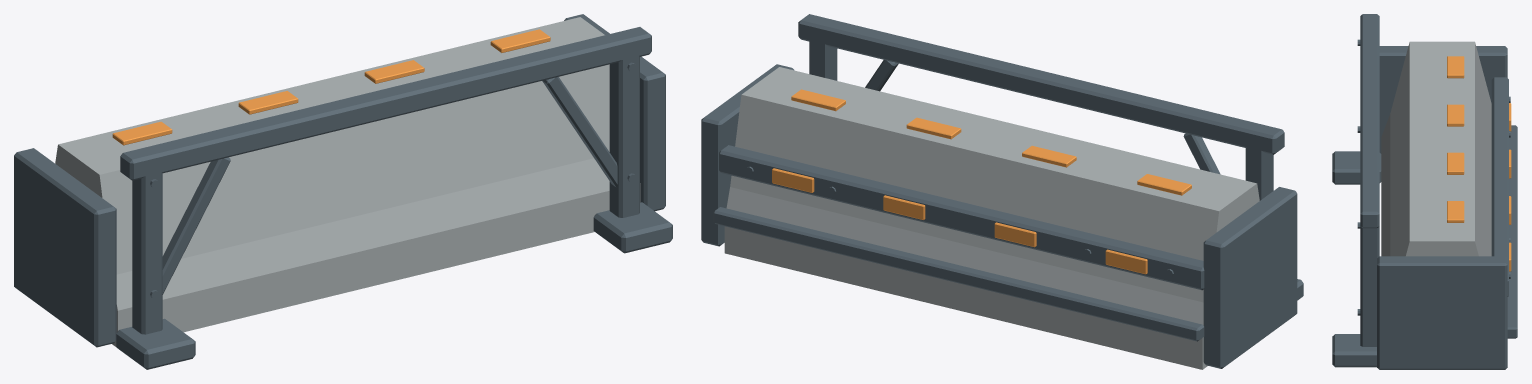
The model's file is ENV01-001_protective_barrier.glb.
The picture shows the model from 3 angles, left to right: view 1: azimuth 30°, elevation 25°; view 2: azimuth 150°, elevation 25°; view 3: azimuth 270°, elevation 25°; orthographic projection. The views are drawn at different scales.
Visible parts, largest first — view 1: Concrete_low_flared_core, Rear_top_steel_tie, Concrete_end_steel_strap_L, Rear_post_L, Rear_post_R, Concrete_end_steel_strap_R, Foot_plate_L, Foot_plate_R, Rear_brace_L, Rear_brace_R, Top_visibility_marker_03, Top_visibility_marker_01 (+2 smaller); view 2: Concrete_low_flared_core, Rear_top_steel_tie, Concrete_end_steel_strap_L, Front_impact_rail, Front_toe_rail, Concrete_end_steel_strap_R, Rear_post_L, Rear_post_R, Rear_brace_L, Amber_reflector_01, Amber_reflector_04, Amber_reflector_02 (+6 smaller); view 3: Concrete_low_flared_core, Concrete_end_steel_strap_R, Rear_top_steel_tie, Front_impact_rail, Concrete_end_steel_strap_L, Rear_post_R, Front_toe_rail, Foot_plate_R, Foot_plate_L, Top_visibility_marker_01, Top_visibility_marker_02, Top_visibility_marker_03 (+1 smaller).
Boxes of the visible parts, left/top/right/bottom form: Concrete_low_flared_core: left=55, top=17, right=640, bottom=346; Rear_top_steel_tie: left=120, top=27, right=651, bottom=180; Concrete_end_steel_strap_L: left=14, top=148, right=116, bottom=347; Rear_post_L: left=132, top=166, right=162, bottom=334; Rear_post_R: left=609, top=56, right=639, bottom=217; Concrete_end_steel_strap_R: left=564, top=14, right=665, bottom=211; Foot_plate_L: left=116, top=318, right=195, bottom=369; Foot_plate_R: left=593, top=202, right=672, bottom=253; Rear_brace_L: left=162, top=157, right=230, bottom=294; Rear_brace_R: left=542, top=77, right=617, bottom=187; Top_visibility_marker_03: left=364, top=60, right=424, bottom=83; Top_visibility_marker_01: left=112, top=121, right=172, bottom=145; Concrete_low_flared_core: left=724, top=67, right=1259, bottom=369; Rear_top_steel_tie: left=798, top=14, right=1284, bottom=154; Concrete_end_steel_strap_L: left=1203, top=187, right=1297, bottom=368; Front_impact_rail: left=719, top=145, right=1204, bottom=290; Front_toe_rail: left=713, top=207, right=1204, bottom=341; Concrete_end_steel_strap_R: left=701, top=64, right=794, bottom=246; Rear_post_L: left=1245, top=147, right=1273, bottom=200; Rear_post_R: left=809, top=35, right=837, bottom=80; Rear_brace_L: left=1183, top=133, right=1220, bottom=174; Amber_reflector_01: left=1105, top=249, right=1147, bottom=274; Amber_reflector_04: left=772, top=168, right=814, bottom=192; Amber_reflector_02: left=994, top=222, right=1036, bottom=247; Concrete_low_flared_core: left=1381, top=41, right=1491, bottom=256; Concrete_end_steel_strap_R: left=1377, top=256, right=1507, bottom=369; Rear_top_steel_tie: left=1360, top=14, right=1379, bottom=228; Front_impact_rail: left=1491, top=77, right=1508, bottom=296; Concrete_end_steel_strap_L: left=1379, top=46, right=1507, bottom=153; Rear_post_R: left=1360, top=226, right=1379, bottom=346; Front_toe_rail: left=1507, top=125, right=1517, bottom=338; Foot_plate_R: left=1332, top=334, right=1376, bottom=367; Foot_plate_L: left=1332, top=151, right=1381, bottom=184; Top_visibility_marker_01: left=1447, top=56, right=1464, bottom=78; Top_visibility_marker_02: left=1447, top=104, right=1464, bottom=126; Top_visibility_marker_03: left=1447, top=152, right=1464, bottom=174.
Size of the model in its own units: 2.54 by 0.835 by 0.91.
